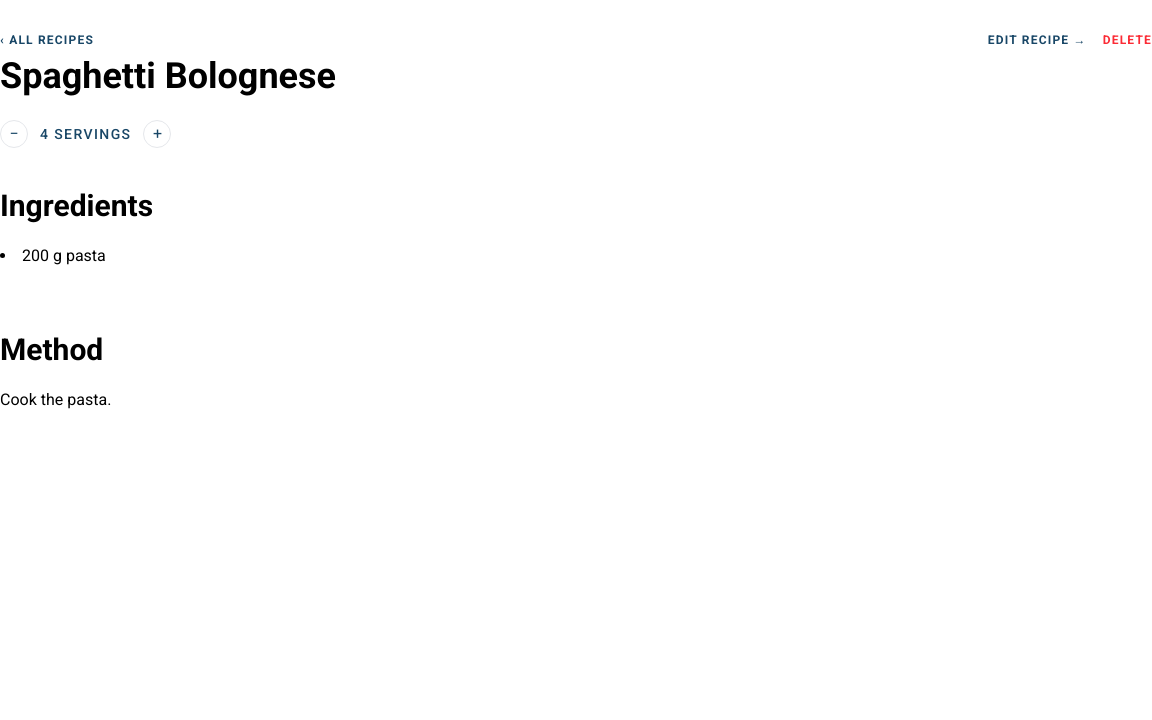
RecipePage › closes the modal when Cancel is clicked
Step 1. Click the button "Delete" → [1127, 40], box [1103, 32, 1151, 48]
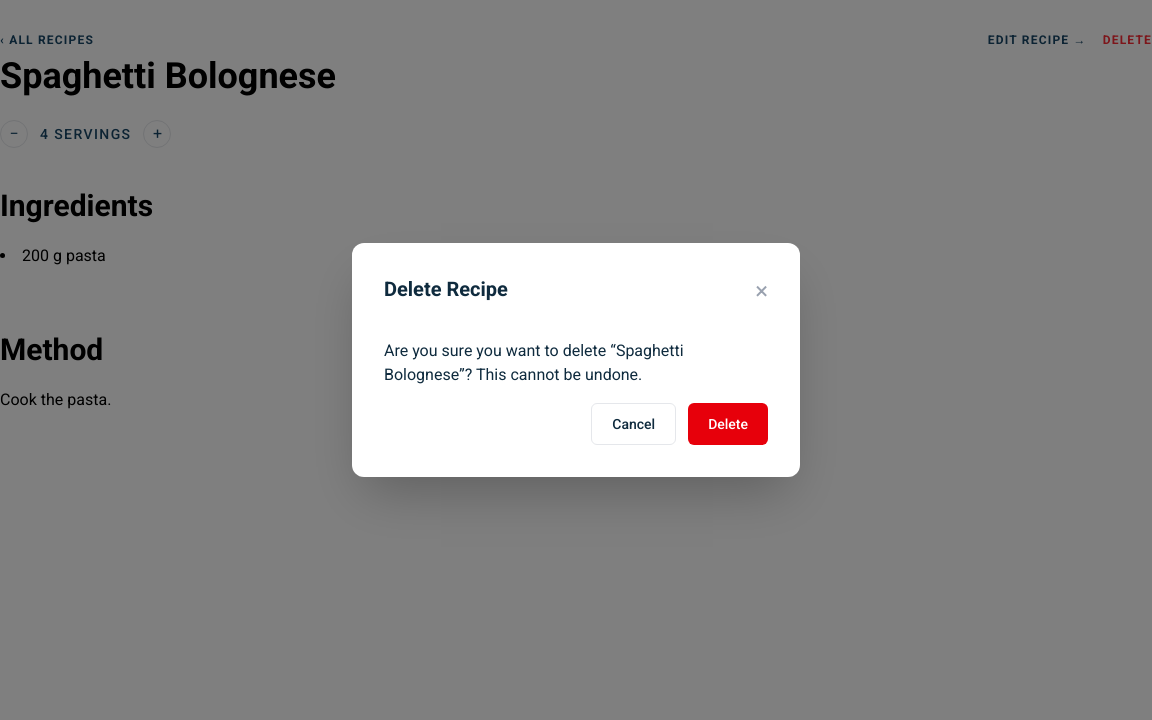
Step 2. Click the button "Cancel" → [634, 424], box [591, 403, 676, 445]
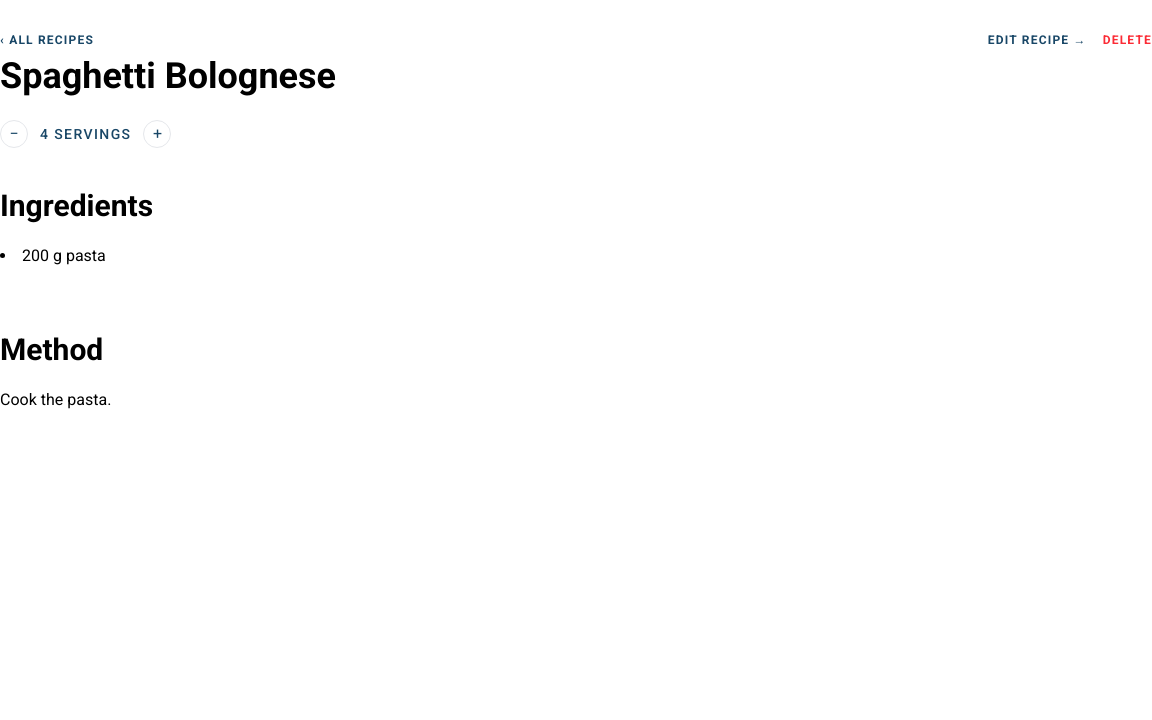
Now the text "Delete Recipe" is gone
